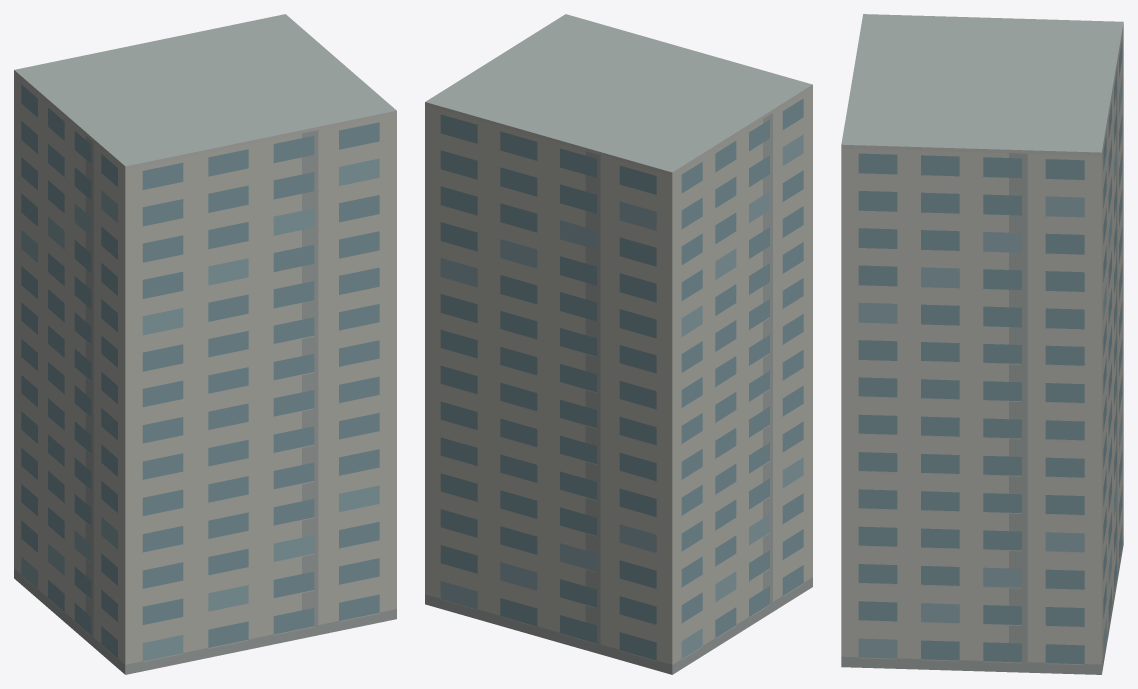
File: residential-729e2e95-bf31-4850-a7d0-9f3f5b94484d.glb
The picture shows the model from 3 angles, left to right: view 1: azimuth 30°, elevation 25°; view 2: azimuth 150°, elevation 25°; view 3: azimuth 270°, elevation 25°; orthographic projection. The views are drawn at different scales.
Visible parts, largest first — view 1: residential-729e2e95-bf31-4850-a7d0-9f3f5b94484d.tmp; view 2: residential-729e2e95-bf31-4850-a7d0-9f3f5b94484d.tmp; view 3: residential-729e2e95-bf31-4850-a7d0-9f3f5b94484d.tmp.
Part boxes in pixels (box(x1,y1,x2,y2)): residential-729e2e95-bf31-4850-a7d0-9f3f5b94484d.tmp: box(14, 14, 396, 674); residential-729e2e95-bf31-4850-a7d0-9f3f5b94484d.tmp: box(425, 14, 812, 674); residential-729e2e95-bf31-4850-a7d0-9f3f5b94484d.tmp: box(841, 14, 1123, 674).
Size of the model in its own units: 21.05 by 37 by 18.13.
